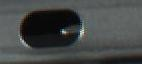holes: (18, 5, 86, 51)
